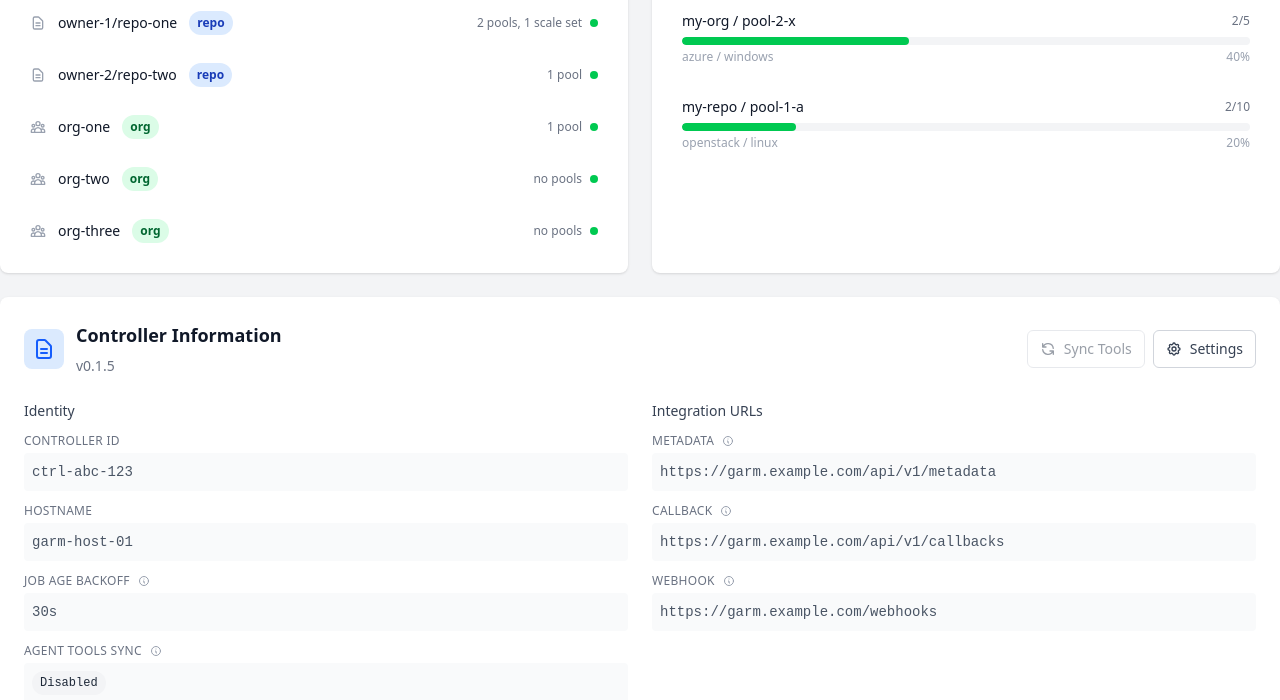
Test: Dashboard Page Integration Tests › Controller Info Card › should fall back to the custom entry for a pin missing from the index
(page scrolled)
Click the button "Settings".
click(1204, 349)  # box [1153, 330, 1256, 368]
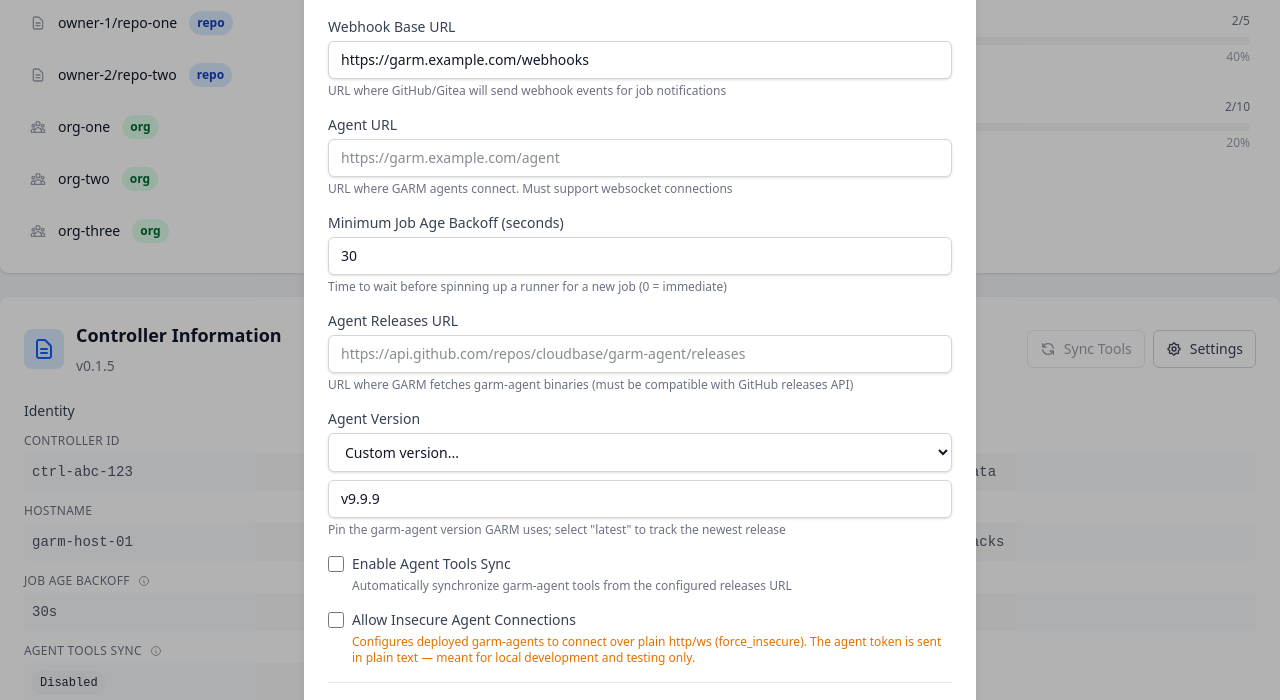
Expected: the dropdown with id "garmAgentVersion" shows "Custom version...", [328, 433, 952, 472]
Expected: the field with id "garmAgentVersionCustom" holds "v9.9.9", [328, 480, 952, 518]
